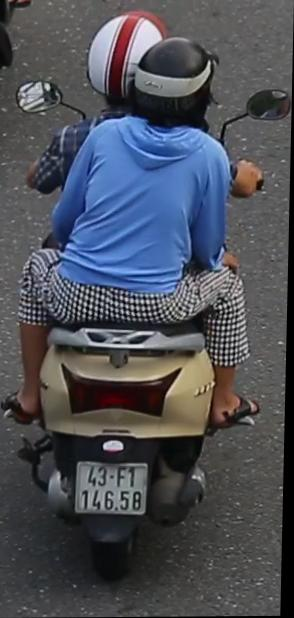LP: (75, 454, 154, 520)
helmet: (129, 31, 220, 139)
